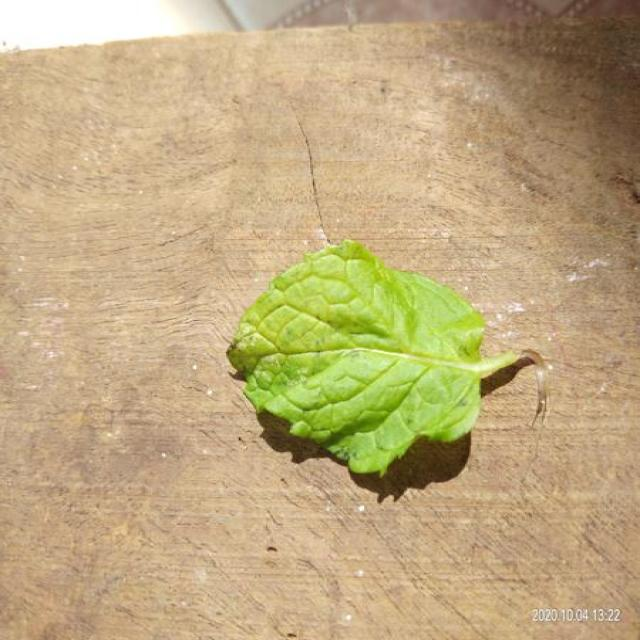mint: (228, 240, 522, 474)
